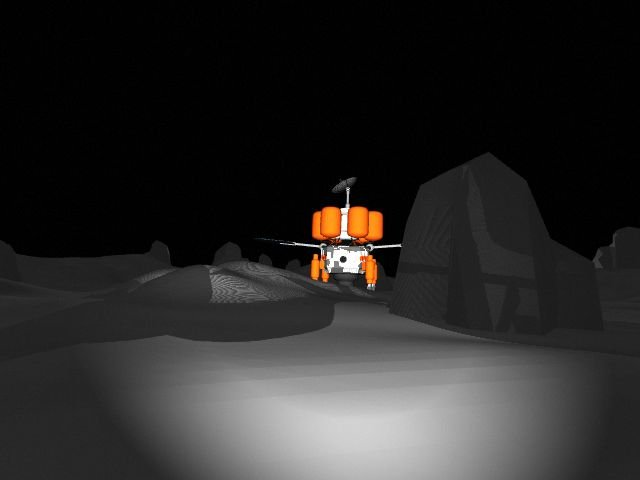homebase: (255, 174, 433, 292)
